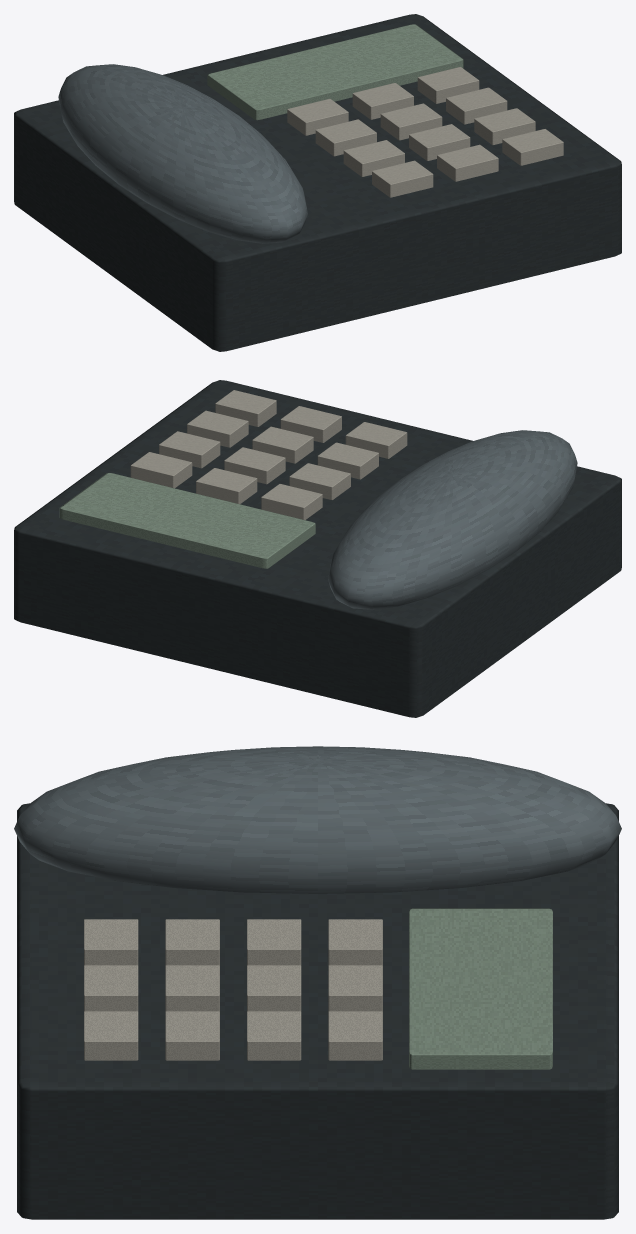
File: telephone.glb
3 views of the same model, one above another, from view 1: azimuth 30°, elevation 25°; view 2: azimuth 150°, elevation 25°; view 3: azimuth 270°, elevation 25° (orthographic). The views are drawn at different scales.
Visible parts, largest first — view 1: base, handset, key (×12), screen; view 2: base, handset, key (×12), screen; view 3: base, handset, key (×12), screen.
Boxes of the visible parts, x1=… form: base: x1=14, y1=14, x2=621, y2=351; handset: x1=58, y1=64, x2=307, y2=243; key (×12): x1=287, y1=67, x2=563, y2=197; screen: x1=207, y1=24, x2=463, y2=120; base: x1=14, y1=380, x2=621, y2=717; handset: x1=328, y1=430, x2=577, y2=609; key (×12): x1=130, y1=390, x2=407, y2=519; screen: x1=59, y1=472, x2=315, y2=568; base: x1=17, y1=803, x2=618, y2=1219; handset: x1=14, y1=746, x2=621, y2=893; key (×12): x1=84, y1=919, x2=382, y2=1060; screen: x1=409, y1=908, x2=552, y2=1069.
Size of the model in its own units: 0.2068 by 0.0742 by 0.1843.
Materials: 4 (4 with a texture image).
